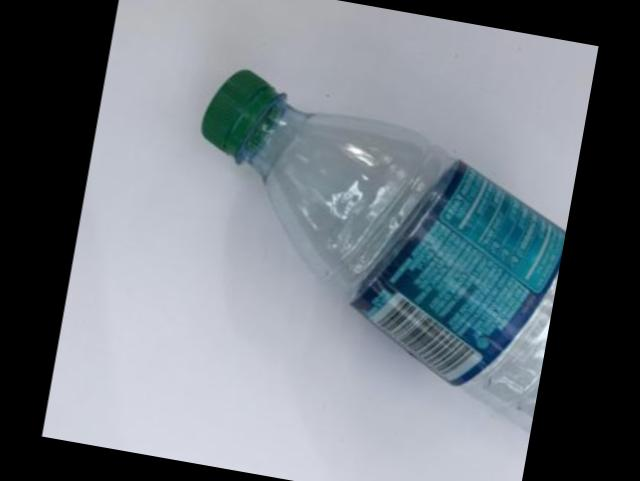plastic: (204, 72, 565, 429)
